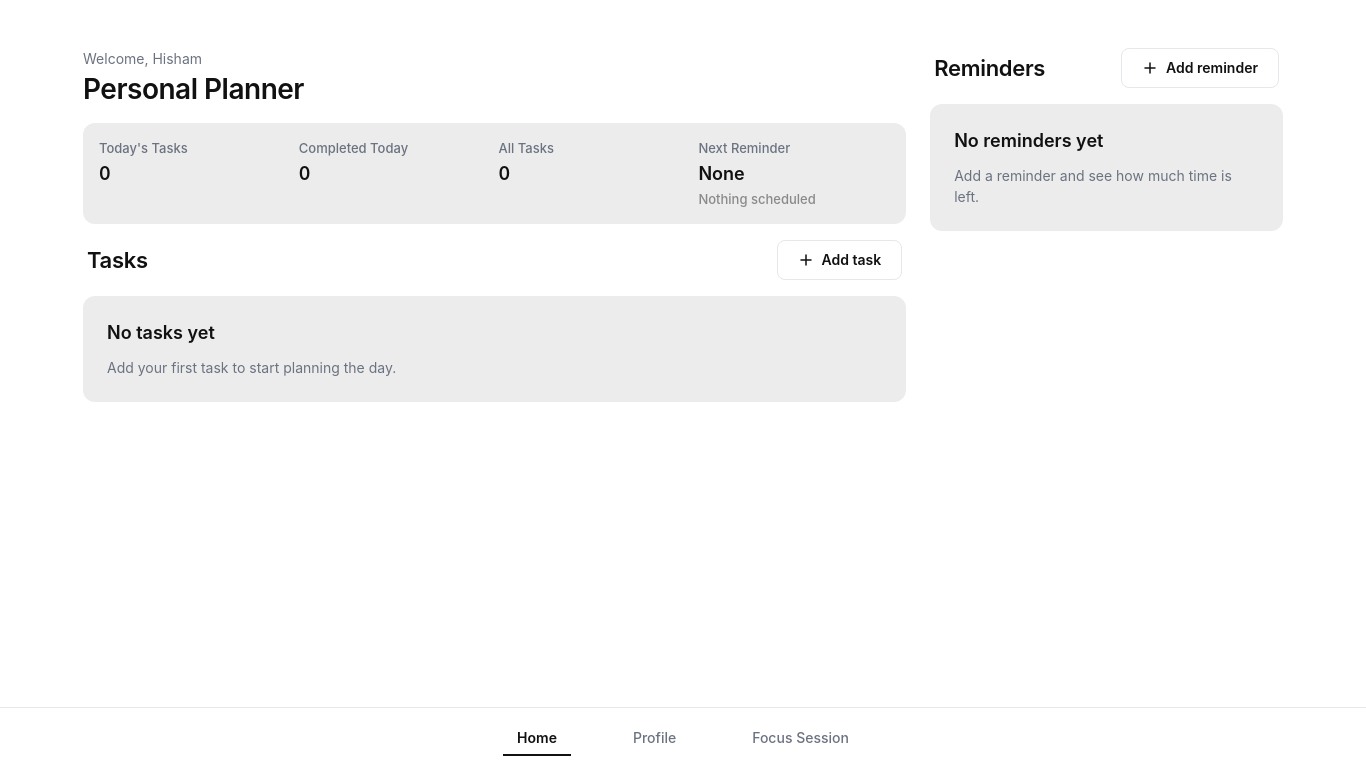
Scenario: repeating tasks › completes a daily task and rolls the next occurrence forward
Check: the heading "Personal Planner" is shown, box [83,72,304,106]
Click the button "Add task": (839, 260) [776,240,902,280]
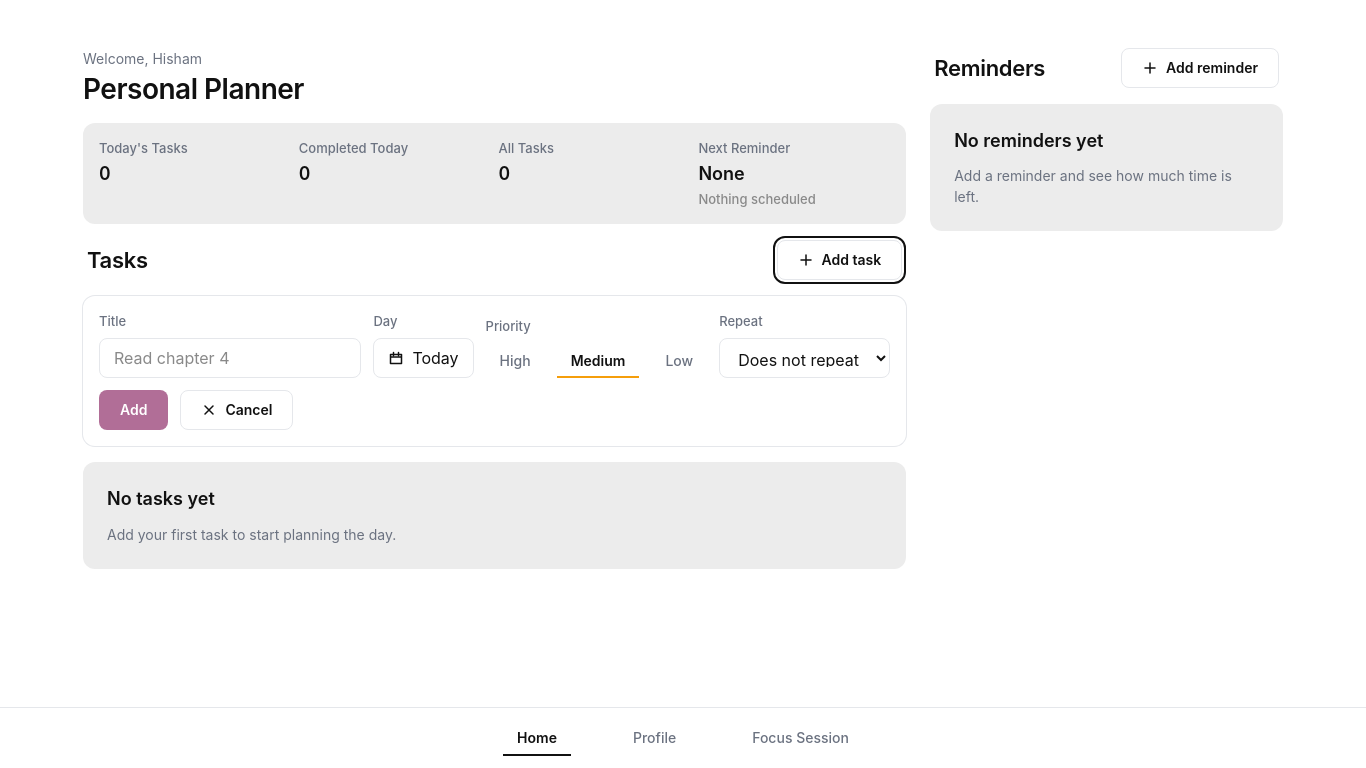
Check: the form named "Add task" is shown, box [83,296,906,446]
In the field labelled "Title": (230, 358) [99,338,361,378], type "Stretch"
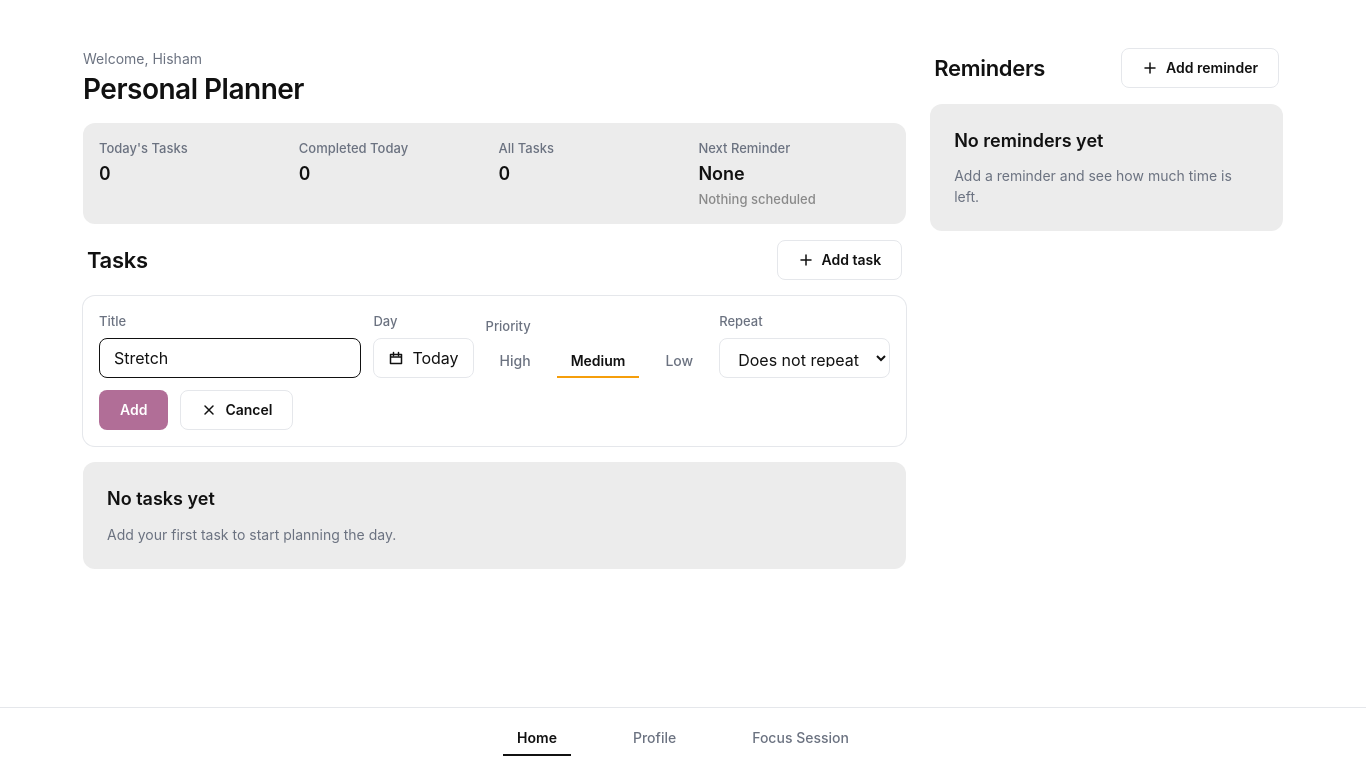
Select "Every day" in the dropdown labelled "Repeat": (805, 358) [719,338,890,378]
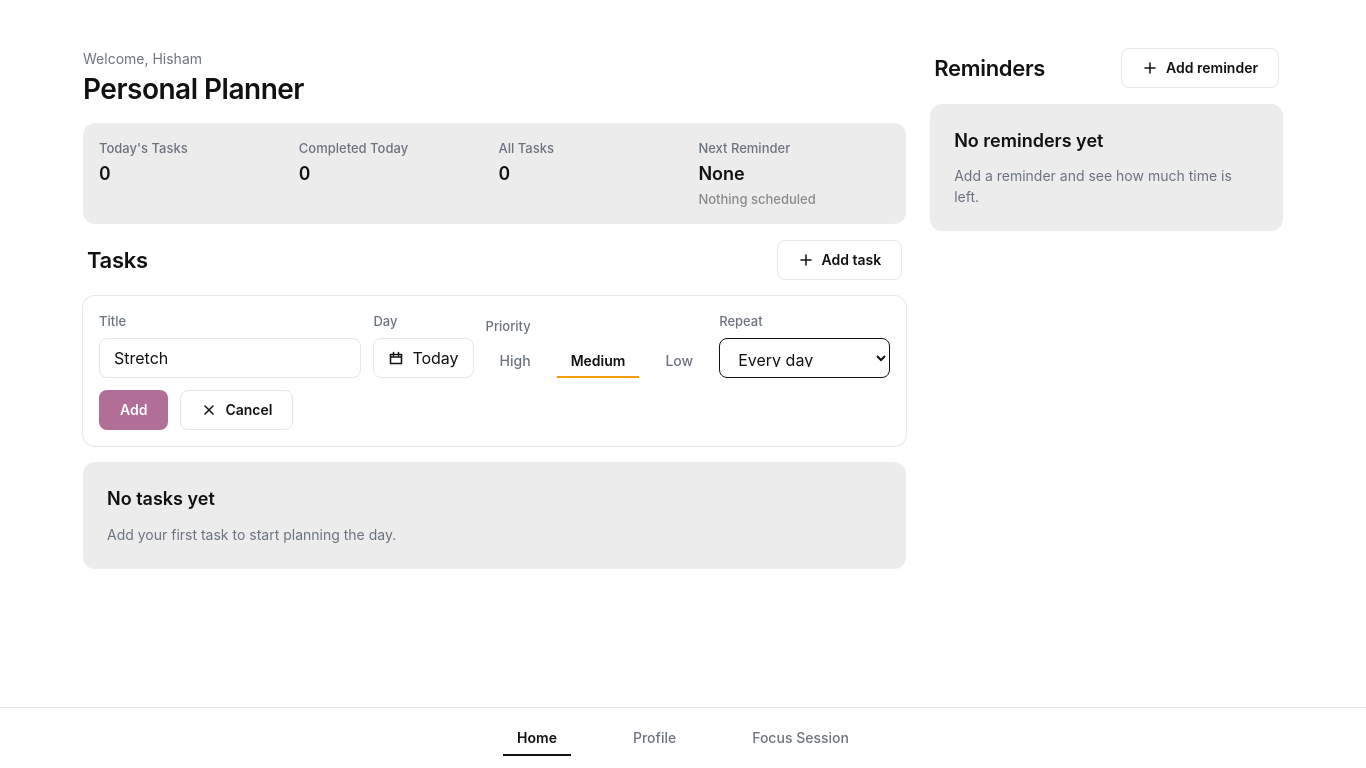
Click the button "Add": (134, 410) [99,390,168,430]
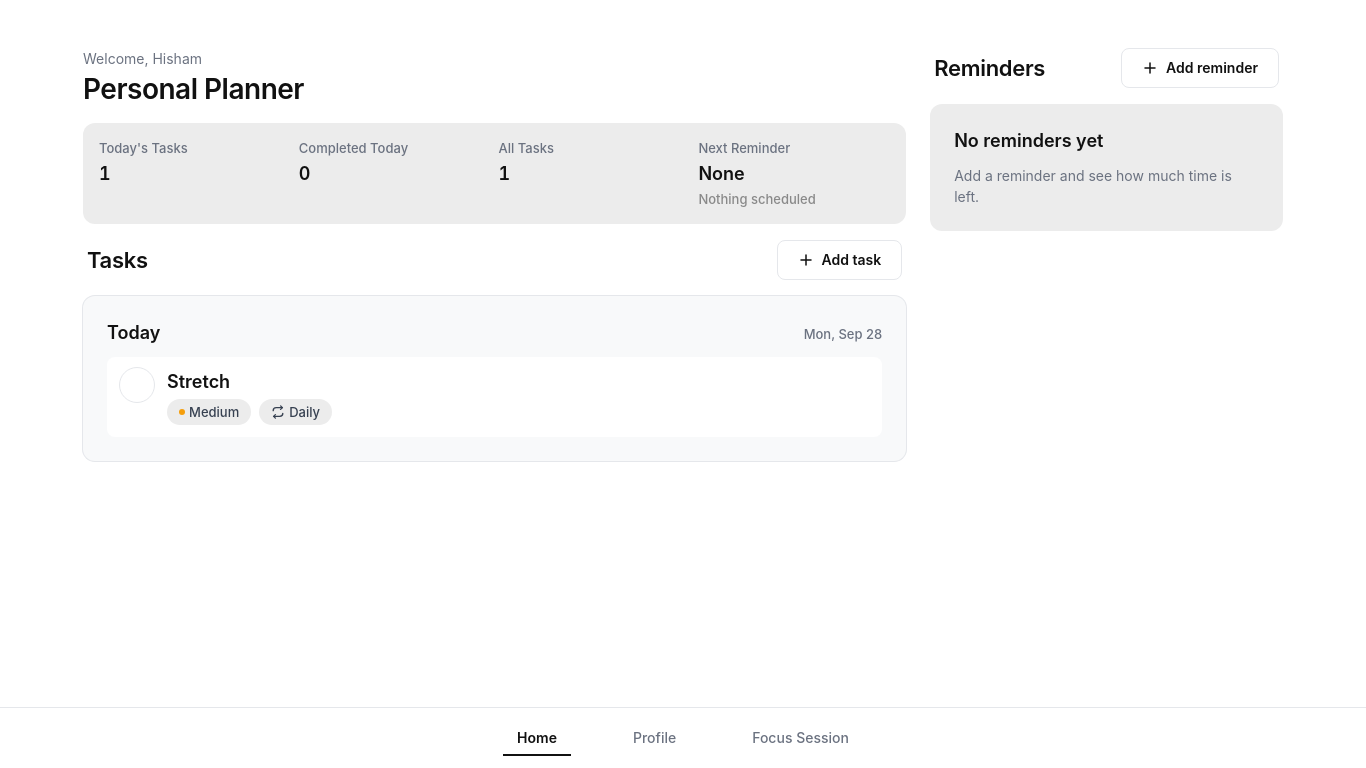
Check: the text "Stretch" is shown, box [167,371,230,392]
Click the button named "Mark \"Stretch\" as done": (137, 385) [119,367,155,403]
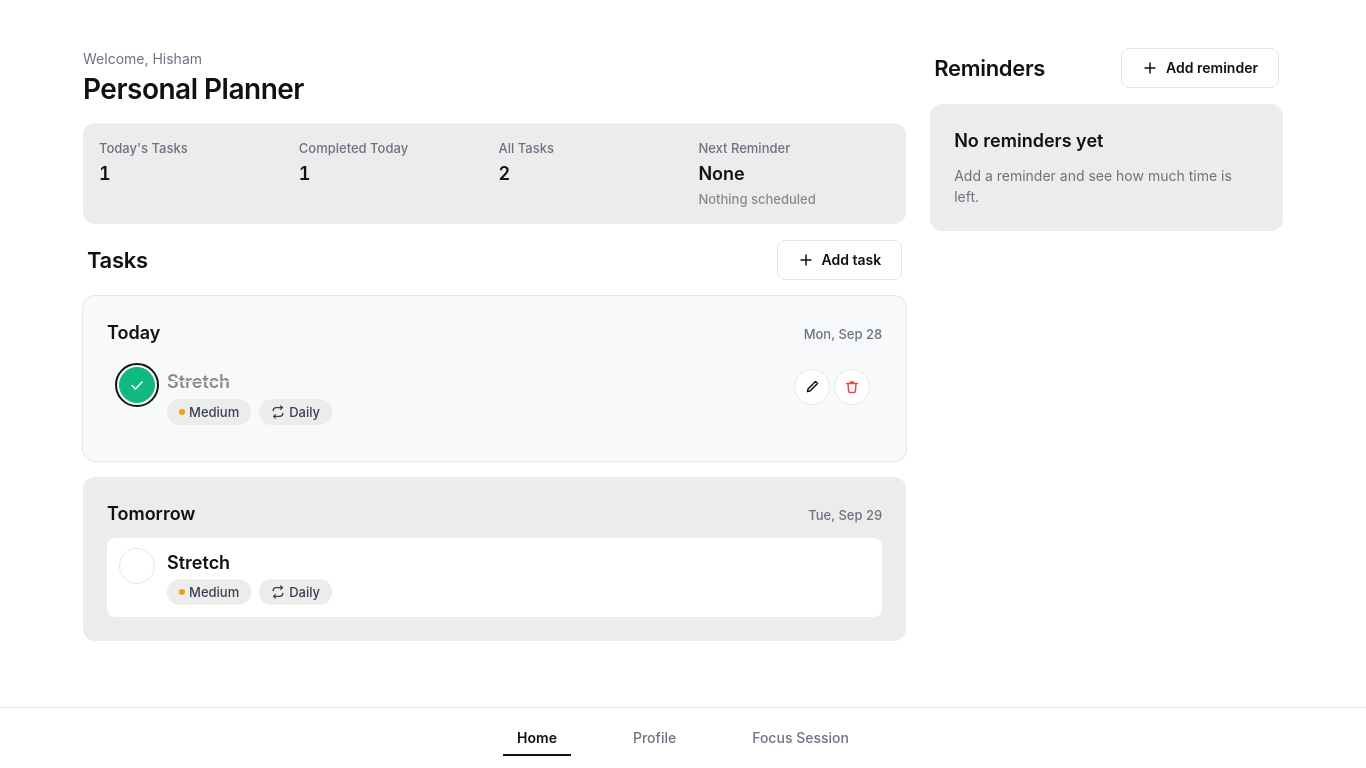
Check: the heading "Tomorrow" is shown, box [107,501,196,526]
Check: the text "Daily" is shown 2 times, box [259,398,332,425]; [259,579,332,605]
